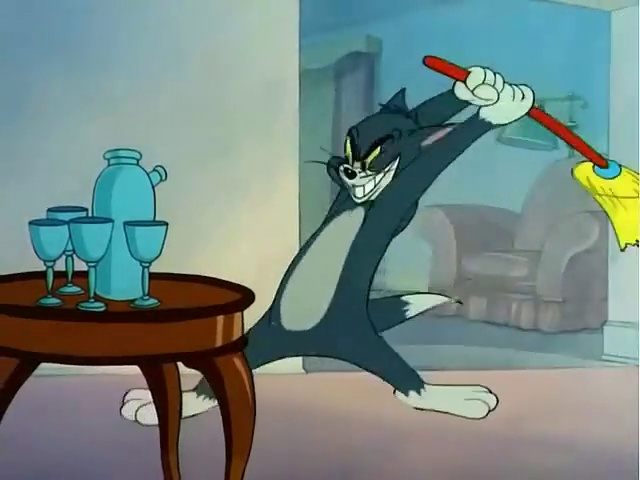tom: (216, 50, 598, 418)
